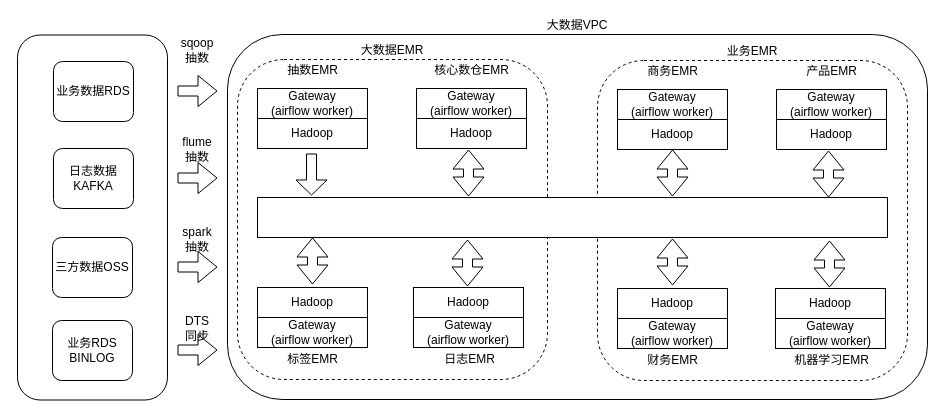
The diagram is 945 pixels wide and 417 high, and some of its shapes have lost their labels. Each missing label, with the box of its shape:
业务VPC: (16, 34, 168, 400)
数据湖OSS: (256, 196, 888, 238)
